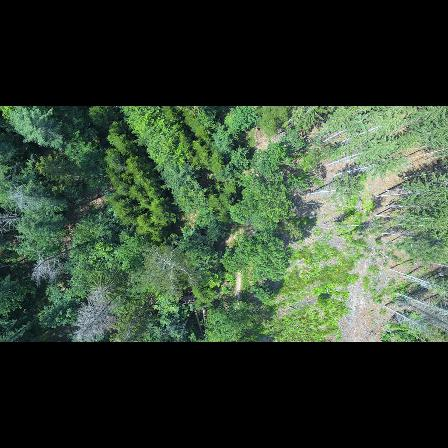Dead: (71, 277, 116, 341), (149, 246, 196, 293), (5, 186, 52, 212), (31, 252, 65, 284)
